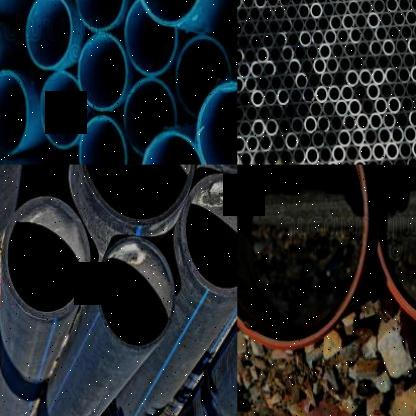pipe: (237, 165, 369, 350), (2, 196, 91, 320), (96, 237, 176, 351), (75, 165, 197, 226), (180, 174, 237, 297), (176, 35, 231, 119), (123, 78, 177, 158), (124, 0, 178, 77), (78, 31, 128, 111), (40, 70, 85, 150), (196, 80, 237, 164), (25, 0, 72, 70), (0, 69, 28, 155), (78, 116, 127, 165), (140, 130, 207, 165), (135, 0, 204, 27), (74, 0, 125, 32), (358, 143, 373, 163), (398, 140, 413, 160), (245, 134, 260, 154), (318, 144, 332, 165), (303, 115, 318, 134), (395, 110, 410, 129), (353, 83, 368, 102), (332, 145, 347, 164), (346, 144, 360, 164), (403, 124, 416, 145), (301, 86, 316, 104), (372, 142, 386, 161), (259, 134, 273, 153), (272, 133, 286, 152), (285, 132, 299, 151), (311, 131, 325, 150), (338, 129, 352, 148), (351, 128, 365, 147), (238, 119, 252, 138), (290, 116, 304, 135), (316, 115, 330, 134), (342, 113, 356, 132), (382, 111, 396, 130), (244, 104, 258, 123), (296, 101, 310, 120), (309, 100, 323, 119), (348, 98, 362, 117), (374, 96, 388, 115), (387, 96, 401, 115), (366, 82, 380, 101), (300, 57, 314, 76), (351, 54, 365, 73), (364, 53, 378, 72), (385, 142, 399, 160), (298, 132, 312, 150), (324, 130, 338, 148), (364, 128, 378, 146), (329, 114, 343, 132), (356, 113, 370, 131), (270, 103, 284, 121), (284, 102, 298, 120), (322, 100, 336, 118), (238, 90, 252, 108), (276, 88, 290, 106), (340, 84, 354, 102), (379, 82, 393, 100), (244, 76, 258, 94), (282, 74, 296, 92), (358, 68, 372, 86), (371, 68, 385, 86), (398, 66, 412, 84), (250, 60, 264, 78), (262, 60, 276, 78), (338, 56, 352, 74), (402, 52, 416, 70), (268, 46, 282, 64), (356, 40, 370, 58), (354, 12, 368, 30), (292, 146, 306, 164), (252, 119, 265, 138), (369, 112, 382, 131), (264, 119, 278, 136), (400, 96, 414, 113), (250, 90, 264, 107), (320, 72, 334, 89), (318, 43, 332, 60), (374, 25, 388, 42), (316, 15, 330, 32), (334, 0, 348, 17), (391, 126, 404, 144), (258, 104, 271, 122), (264, 89, 277, 107), (315, 86, 328, 104), (393, 81, 406, 99), (257, 75, 270, 93), (295, 72, 308, 90), (346, 70, 359, 88), (385, 66, 398, 84), (288, 58, 301, 76), (313, 57, 326, 75), (377, 53, 390, 71), (390, 52, 403, 70), (256, 46, 269, 64), (306, 43, 319, 61), (331, 42, 344, 60), (382, 38, 395, 56), (299, 30, 312, 48), (292, 16, 305, 34), (305, 146, 318, 164), (378, 127, 390, 146), (278, 117, 290, 136), (362, 97, 374, 116), (238, 61, 250, 80), (400, 24, 414, 40), (278, 148, 292, 164), (344, 41, 357, 58), (349, 27, 362, 44), (362, 26, 375, 43), (255, 19, 268, 36), (267, 19, 280, 36), (329, 14, 342, 31), (342, 13, 355, 30), (367, 12, 380, 29), (249, 5, 262, 22), (322, 1, 335, 18), (336, 99, 348, 117), (290, 87, 302, 105), (328, 85, 340, 103), (270, 74, 282, 92), (308, 72, 320, 90), (334, 70, 346, 88), (326, 56, 338, 74), (282, 45, 294, 63), (294, 44, 306, 62), (370, 39, 382, 57), (262, 32, 274, 50), (388, 24, 400, 42), (243, 20, 255, 38), (262, 4, 274, 22), (273, 4, 285, 22), (395, 38, 408, 54), (337, 28, 350, 44), (274, 32, 286, 49), (287, 31, 299, 48), (305, 16, 317, 33), (380, 11, 392, 28), (393, 10, 405, 27), (286, 4, 298, 21), (298, 3, 310, 20), (310, 2, 322, 19), (252, 150, 266, 164), (276, 60, 288, 76), (244, 48, 256, 64), (250, 34, 262, 50), (312, 30, 324, 46), (324, 30, 336, 46), (348, 0, 360, 16), (266, 148, 278, 164), (281, 18, 292, 35), (405, 9, 416, 26), (238, 6, 249, 23), (406, 80, 416, 98), (360, 0, 372, 15), (238, 34, 249, 50), (385, 0, 398, 13), (397, 0, 410, 13), (372, 0, 384, 14), (240, 150, 252, 164), (407, 38, 416, 54), (379, 156, 394, 165), (238, 136, 245, 154), (409, 109, 416, 127), (238, 105, 245, 123), (238, 76, 245, 94), (393, 156, 406, 165), (238, 49, 244, 66), (243, 0, 254, 9), (410, 66, 416, 82), (254, 0, 266, 8), (266, 0, 278, 8), (290, 0, 303, 7), (411, 140, 416, 158), (406, 156, 416, 165), (237, 21, 242, 38), (278, 0, 290, 7), (366, 158, 380, 164), (412, 22, 416, 40), (410, 0, 416, 12), (303, 0, 315, 6), (354, 158, 366, 164), (315, 0, 328, 5), (340, 160, 354, 164), (413, 94, 416, 112), (327, 0, 340, 4), (326, 160, 339, 164), (237, 0, 242, 10), (340, 0, 352, 3), (352, 0, 364, 2), (415, 50, 416, 68), (364, 0, 376, 1)
